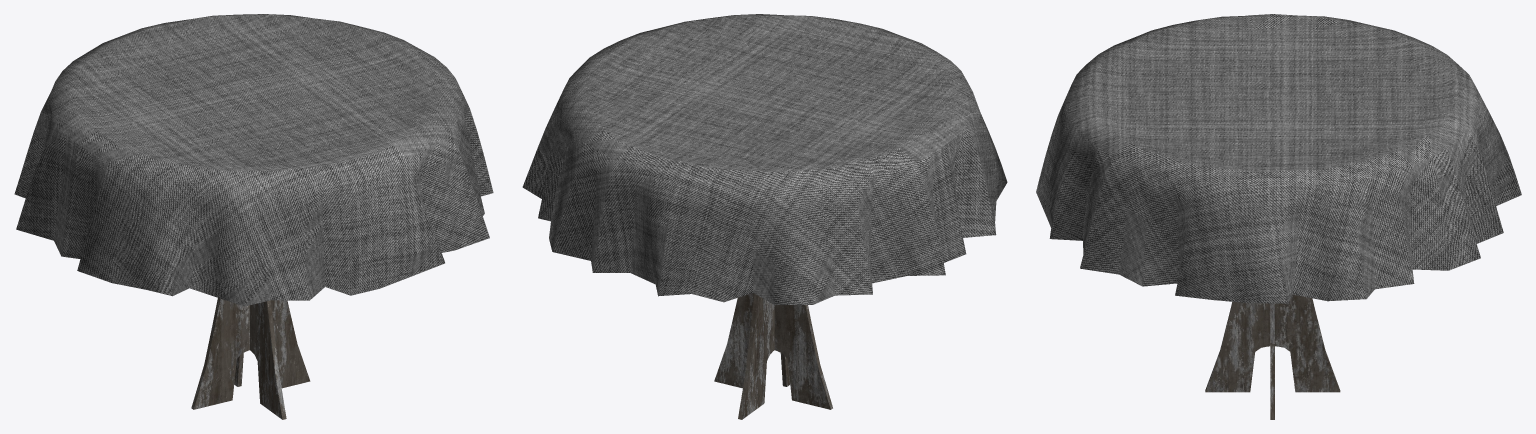
Rendered from Mesa.fbx.
3 renders of one model, left to right at view 1: azimuth 30°, elevation 25°; view 2: azimuth 150°, elevation 25°; view 3: azimuth 270°, elevation 25°, orthographic.
Parts seen in each view (by area): view 1: pCube4; view 2: pCube4; view 3: pCube4.
Boxes of the visible parts, left/top/right/bottom form: pCube4: left=14, top=14, right=493, bottom=419; pCube4: left=522, top=14, right=1007, bottom=419; pCube4: left=1036, top=14, right=1521, bottom=419.
Size of the model in its own units: 3.61 by 2.47 by 3.6.
Materials: 2 (2 with a texture image).
